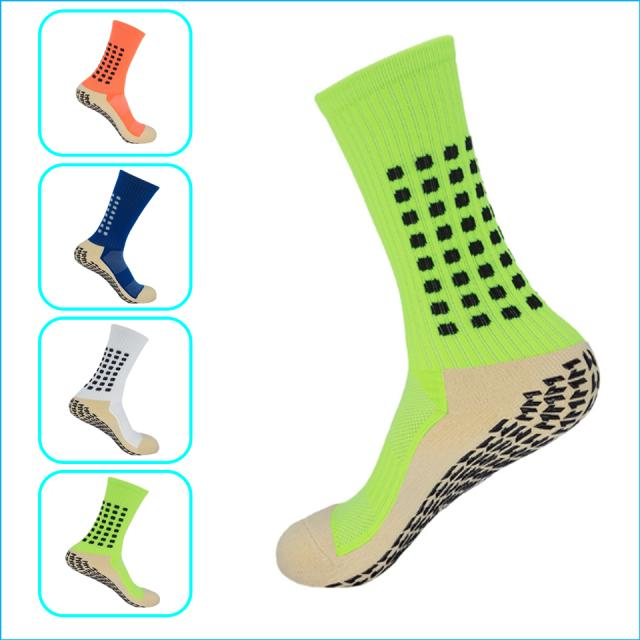sock: (275, 33, 600, 588), (64, 476, 160, 608), (68, 324, 159, 456), (74, 169, 160, 304), (75, 19, 156, 144)
